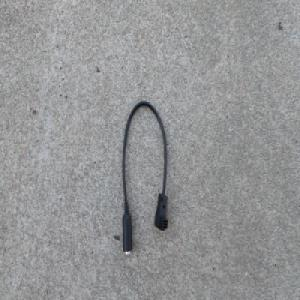Wire: (120, 99, 168, 257)
